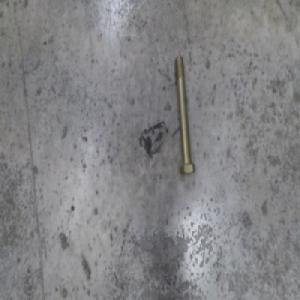Bolt: (173, 57, 195, 177)
